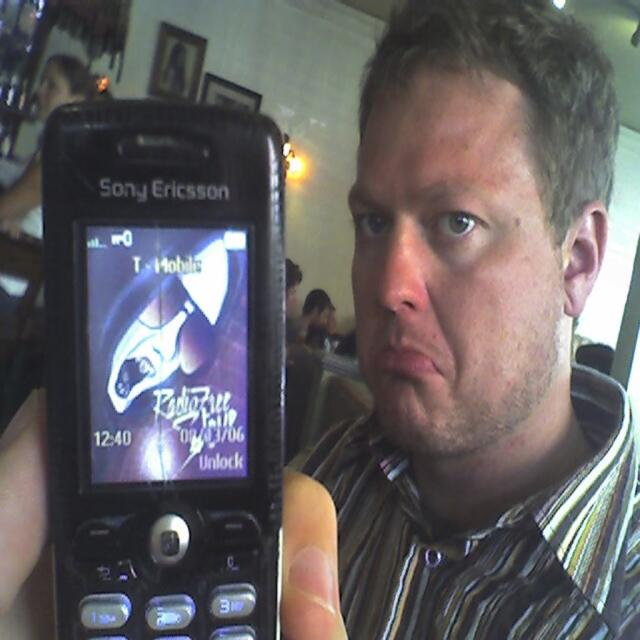Mobile-phone: (42, 104, 283, 639)
